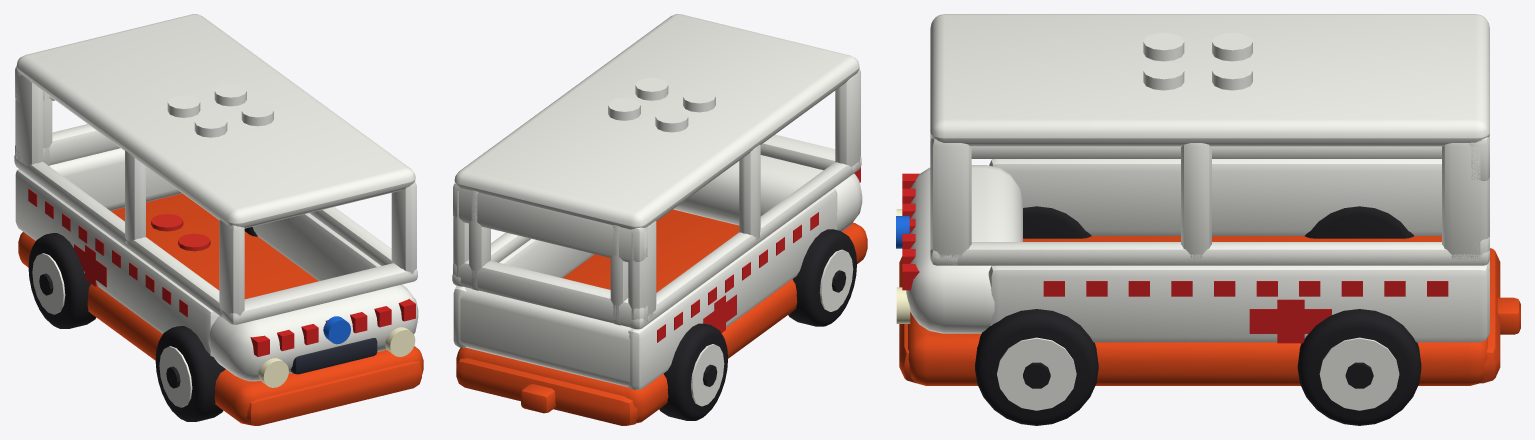
The model's file is krankenwagen.glb.
3 views of the same model, side by side, from view 1: azimuth 30°, elevation 25°; view 2: azimuth 150°, elevation 25°; view 3: azimuth 270°, elevation 25° (orthographic). The views are drawn at different scales.
Parts seen in each view (by area): view 1: roof, body, wheel-front-right, wheel-back-right; view 2: roof, body, wheel-back-right, wheel-front-right; view 3: roof, body, wheel-front-left, wheel-back-left, wheel-back-right, wheel-front-right.
Boxes of the visible parts, x1,y1,x2,y2 form: roof: [14, 14, 417, 324]; body: [15, 148, 423, 425]; wheel-front-right: [155, 326, 225, 421]; wheel-back-right: [28, 233, 96, 328]; roof: [452, 14, 861, 329]; body: [453, 155, 867, 425]; wheel-back-right: [659, 323, 727, 420]; wheel-front-right: [788, 229, 856, 326]; roof: [930, 14, 1489, 265]; body: [896, 159, 1520, 385]; wheel-front-left: [975, 309, 1098, 425]; wheel-back-left: [1297, 309, 1421, 425]; wheel-back-right: [1305, 206, 1413, 238]; wheel-front-right: [1023, 206, 1091, 238].
Bounding box in the file's own units: 0.7929 × 0.8126 × 1.5.
